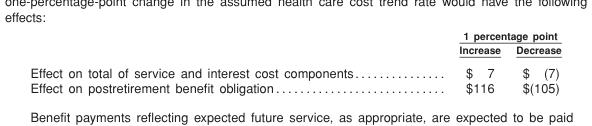table: (29, 29, 560, 95)
table column: (29, 29, 408, 95), (408, 29, 507, 95), (507, 29, 560, 95)
table column header: (29, 29, 560, 59)
table row: (29, 59, 560, 80), (29, 42, 560, 59), (29, 80, 560, 95), (29, 29, 560, 42)
table spanning cell: (408, 29, 560, 42)
